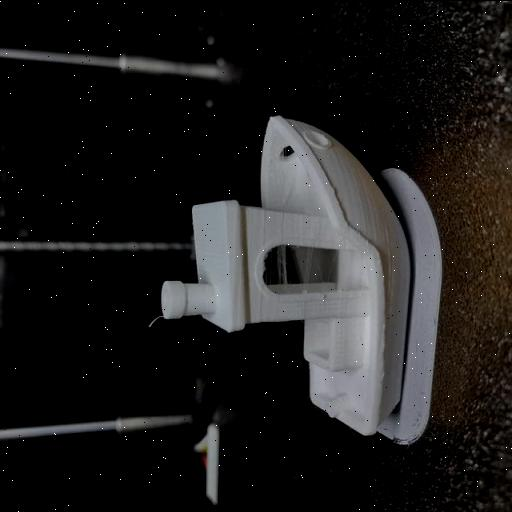stringing: (268, 246, 290, 282), (304, 248, 314, 290)
